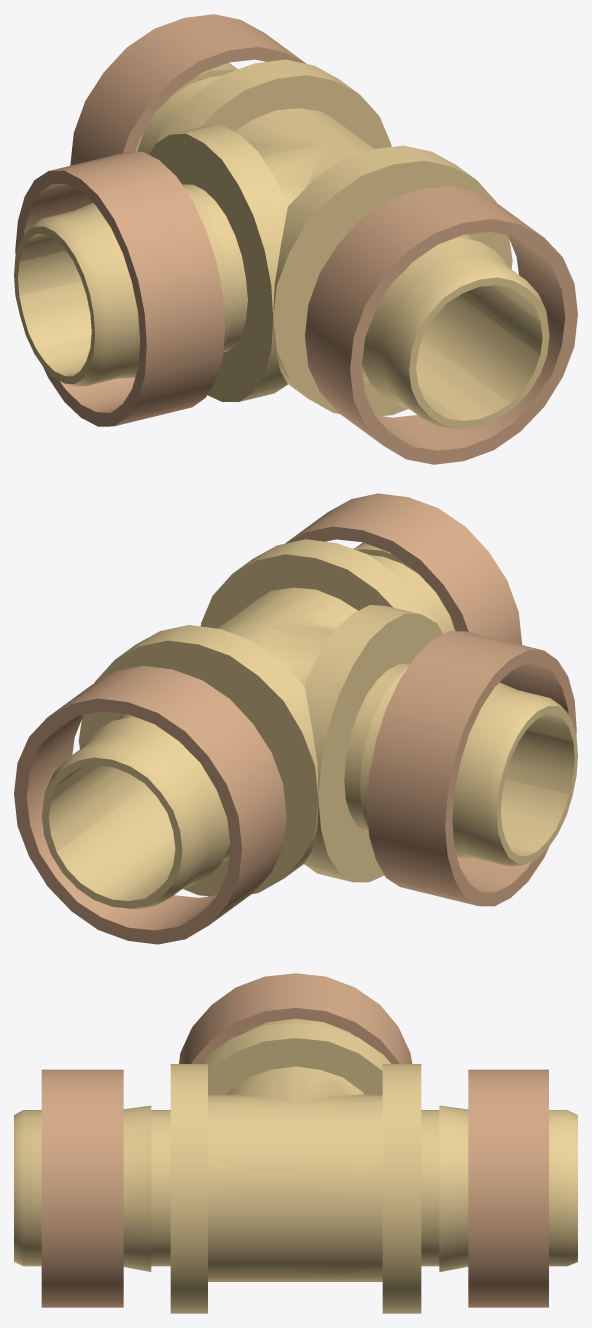
Rendered from pipes_supply__water_heater__a6c2ab71.glb.
The picture shows the model from 3 angles, top to bottom: view 1: azimuth 30°, elevation 25°; view 2: azimuth 150°, elevation 25°; view 3: azimuth 270°, elevation 25°; orthographic projection. The views are drawn at different scales.
Parts seen in each view (by area): view 1: fit_tee_pipe_supply_cold_chase__pex; view 2: fit_tee_pipe_supply_cold_chase__pex; view 3: fit_tee_pipe_supply_cold_chase__pex.
Boxes of the visible parts, x1,y1,x2,y2 form: fit_tee_pipe_supply_cold_chase__pex: (14, 14, 577, 464); fit_tee_pipe_supply_cold_chase__pex: (14, 493, 577, 944); fit_tee_pipe_supply_cold_chase__pex: (14, 973, 577, 1313).
Size of the model in its own units: 0.0413 by 0.0254 by 0.0571.
